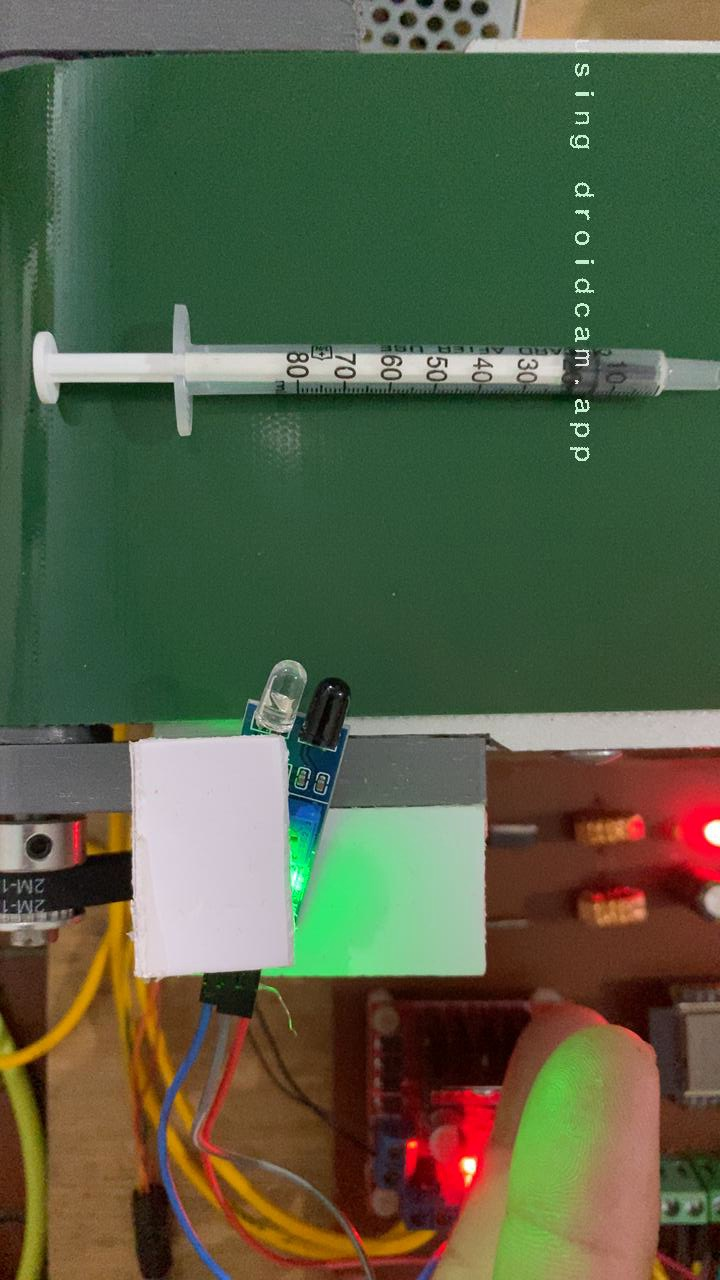syringe: (25, 298, 720, 445)
